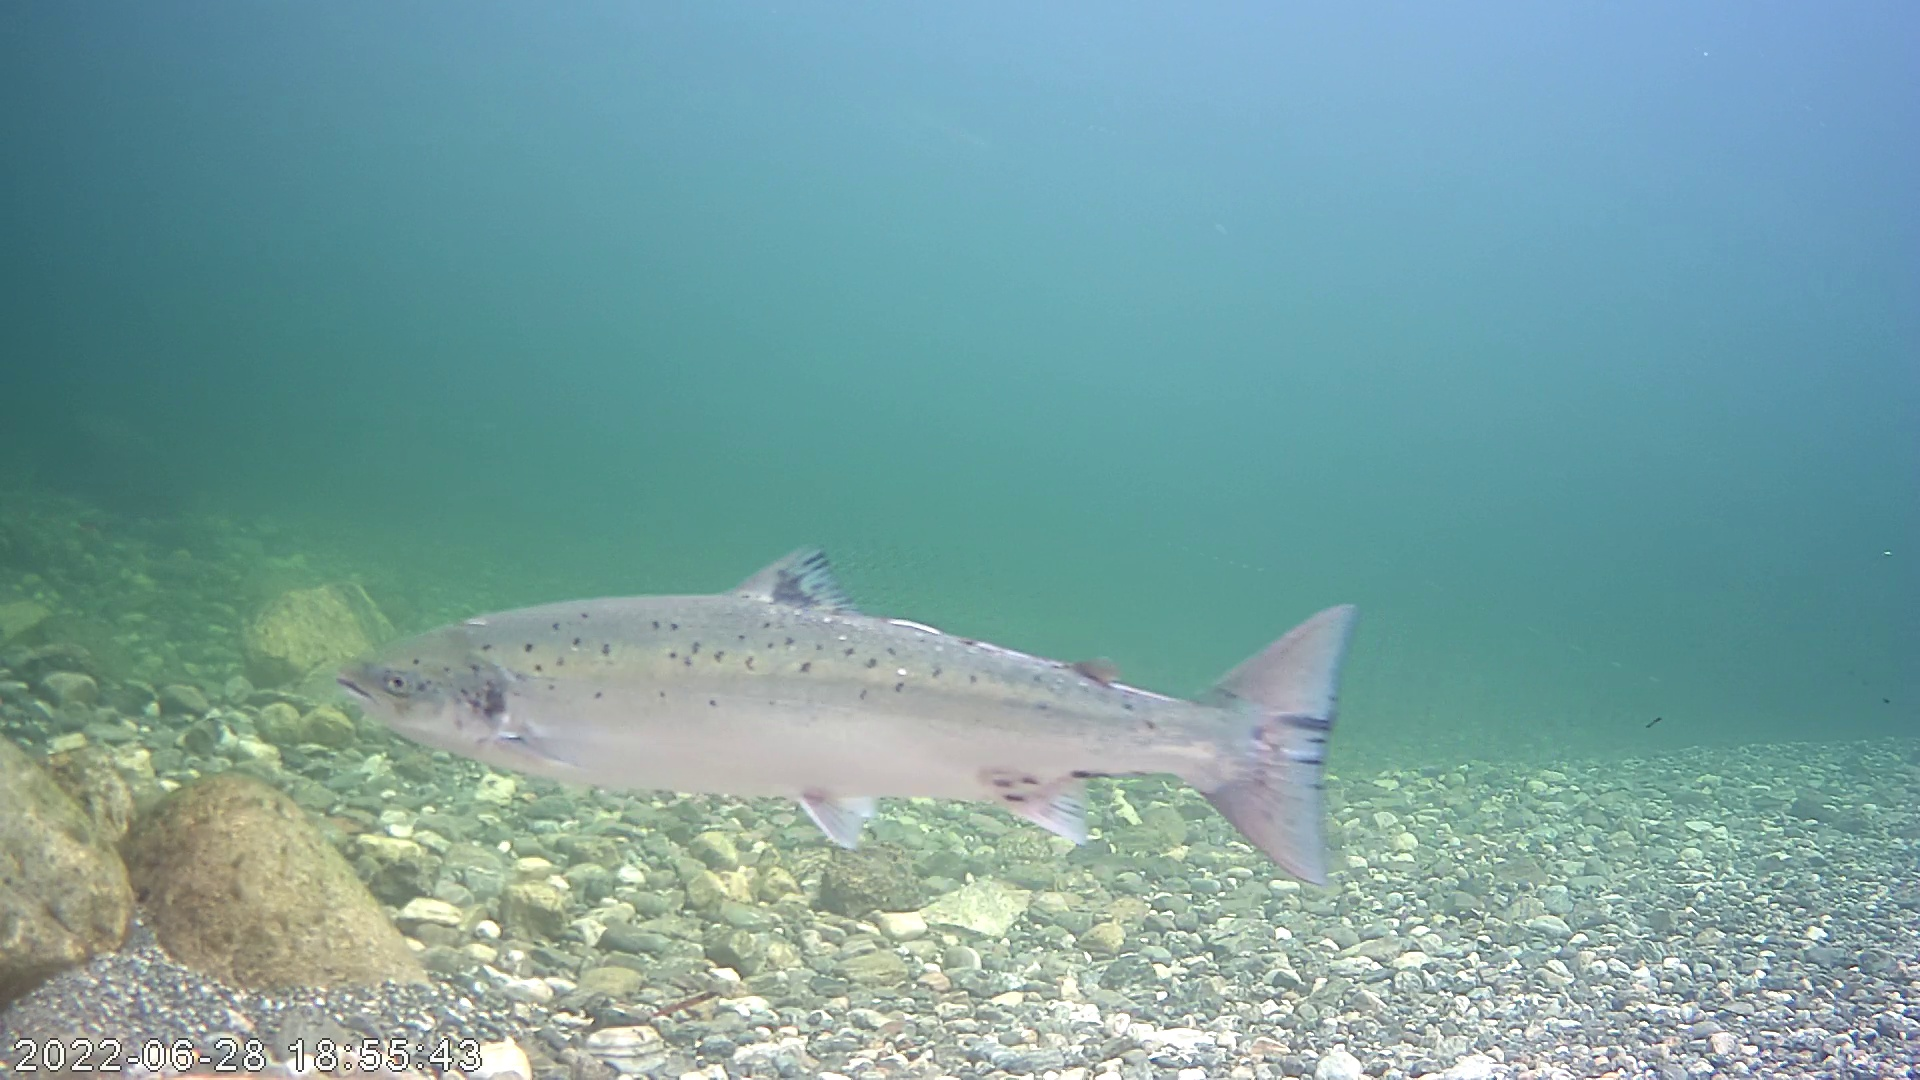salmon: (309, 498, 1383, 869)
